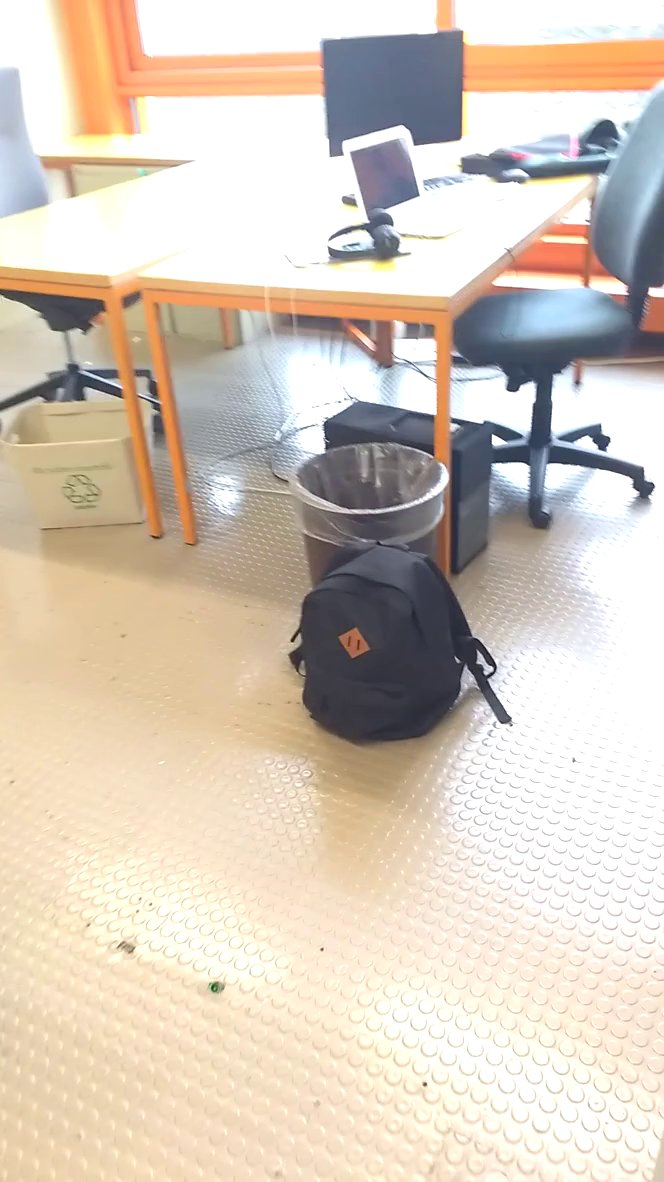bag: (279, 540, 518, 748)
bin: (280, 433, 462, 558)
box: (1, 391, 166, 536)
chair: (446, 69, 664, 509)
laptop: (332, 118, 515, 247)
